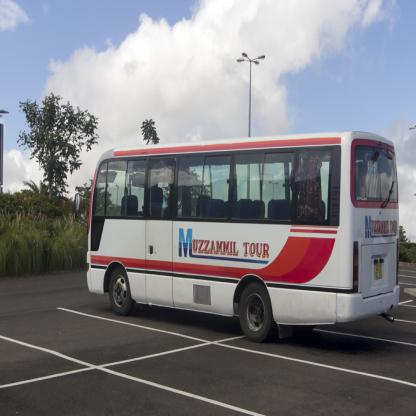Bus: (74, 131, 400, 342)
